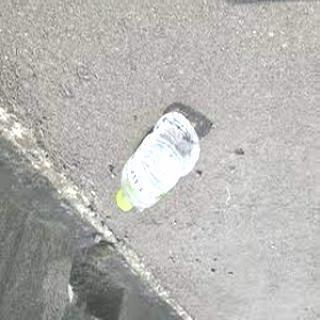Plastic: (115, 111, 201, 213)
